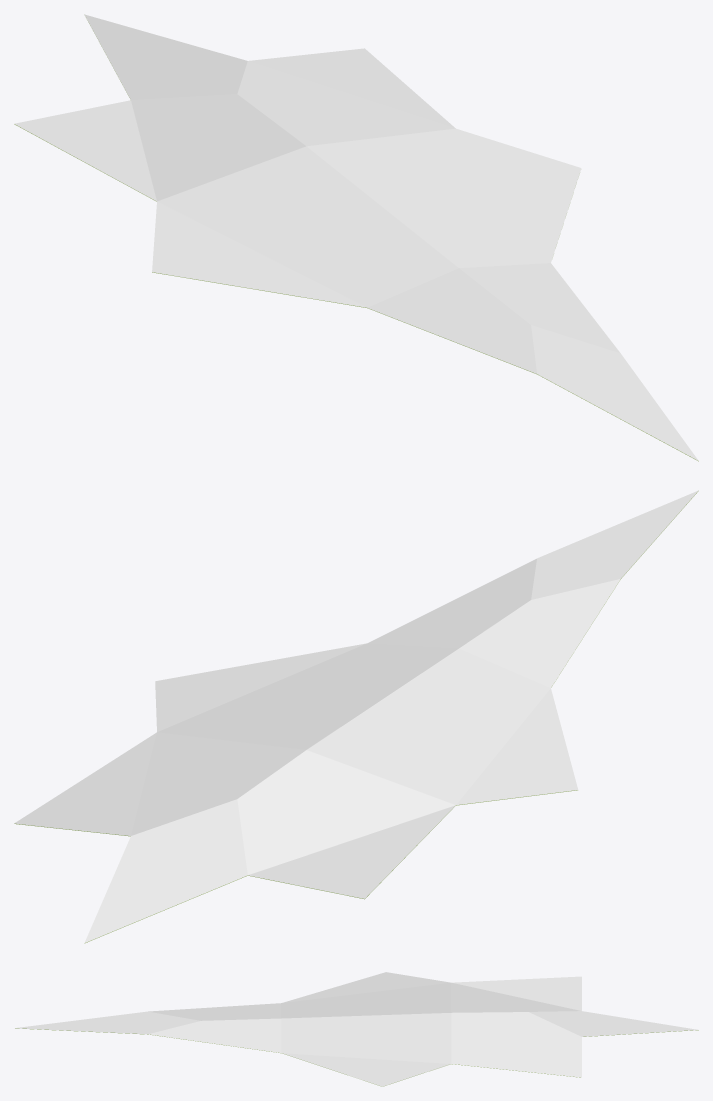
File: Pine_Spikes_TwoSided_Snow_01.fbx
The picture shows the model from 3 angles, top to bottom: view 1: azimuth 30°, elevation 25°; view 2: azimuth 150°, elevation 25°; view 3: azimuth 270°, elevation 25°; orthographic projection. The views are drawn at different scales.
Visible parts, largest first — view 1: Pine_Spikes_TwoSided_Snow_01; view 2: Pine_Spikes_TwoSided_Snow_01; view 3: Pine_Spikes_TwoSided_Snow_01.
Boxes of the visible parts, left/top/right/bottom form: Pine_Spikes_TwoSided_Snow_01: left=14, top=14, right=698, bottom=461; Pine_Spikes_TwoSided_Snow_01: left=14, top=490, right=698, bottom=943; Pine_Spikes_TwoSided_Snow_01: left=15, top=972, right=698, bottom=1086.
Bounding box in the file's own units: 113 × 8.29 × 282.
